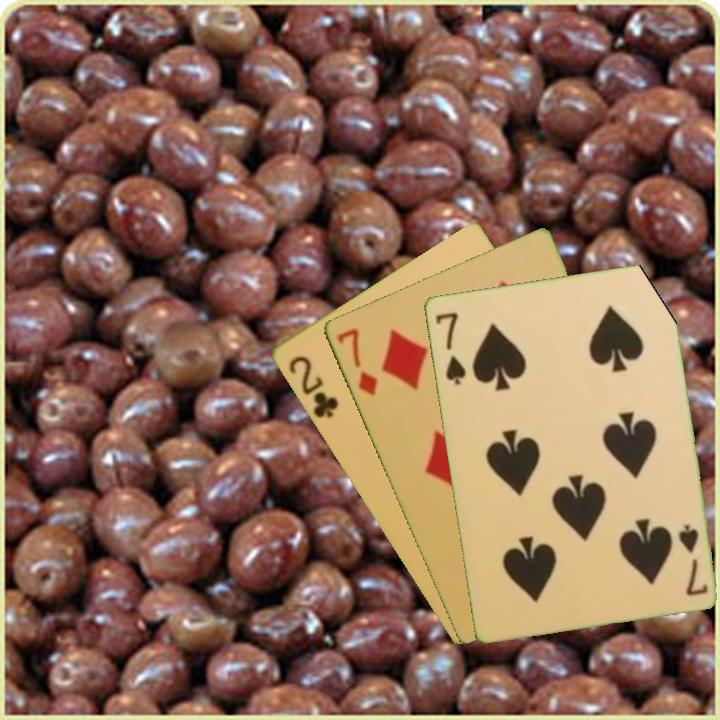2c: (284, 352, 341, 421)
7d: (333, 324, 381, 399)
7s: (431, 308, 468, 387), (674, 520, 710, 598)
